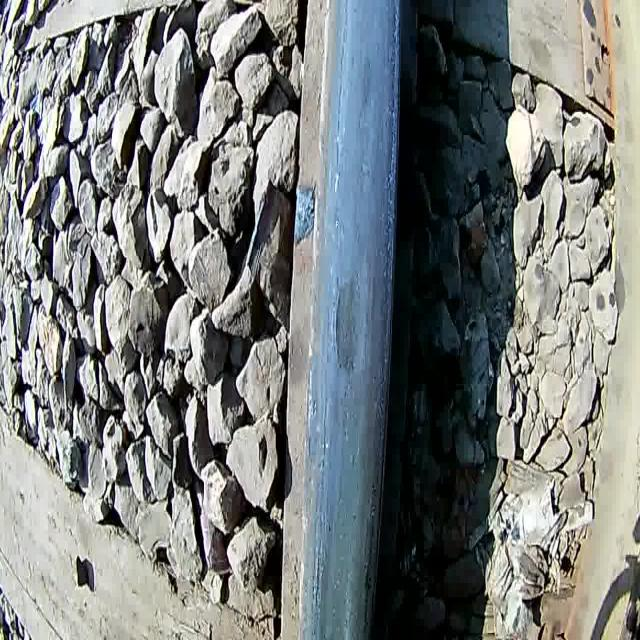Squats: (272, 0, 429, 640)
